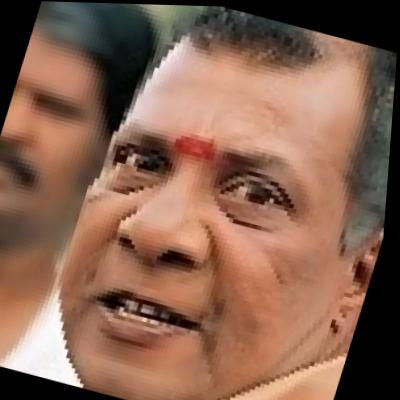angry: (39, 19, 392, 400)
